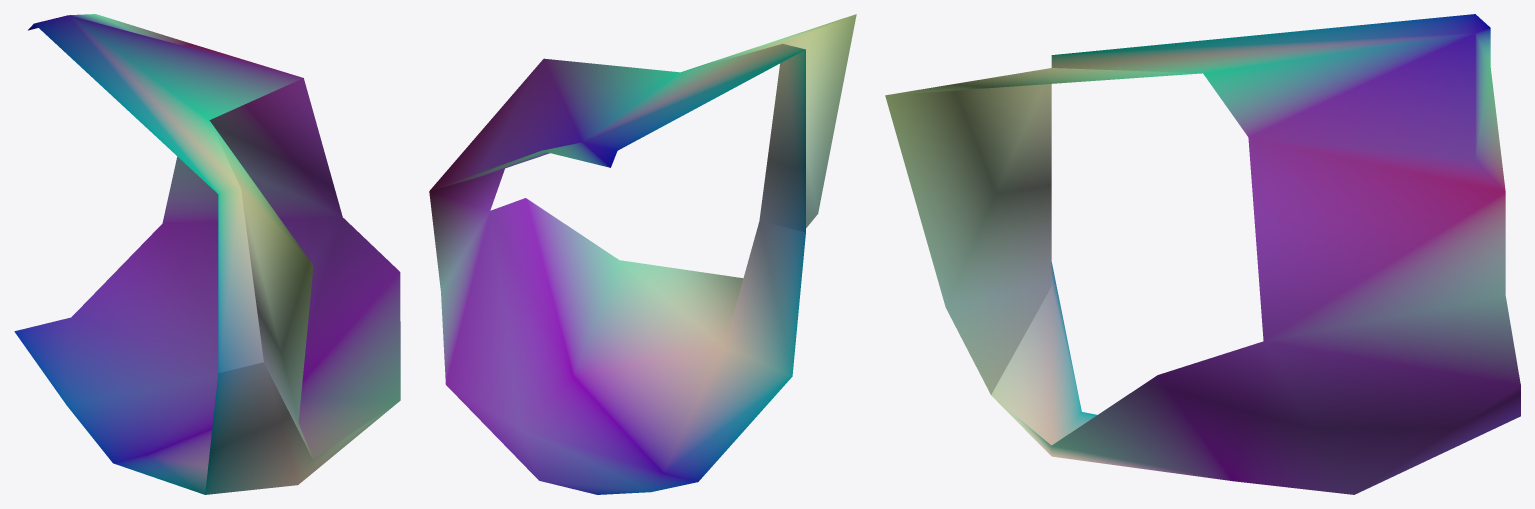
3 renders of one model, left to right at view 1: azimuth 30°, elevation 25°; view 2: azimuth 150°, elevation 25°; view 3: azimuth 270°, elevation 25°, orthographic. The views are drawn at different scales.
Visible parts, largest first — view 1: part; view 2: part; view 3: part.
Boxes of the visible parts, bbox=[...] form: part: bbox=[14, 14, 400, 494]; part: bbox=[429, 14, 856, 494]; part: bbox=[885, 14, 1520, 494].
Size of the model in its own units: 20 by 32 by 42.
